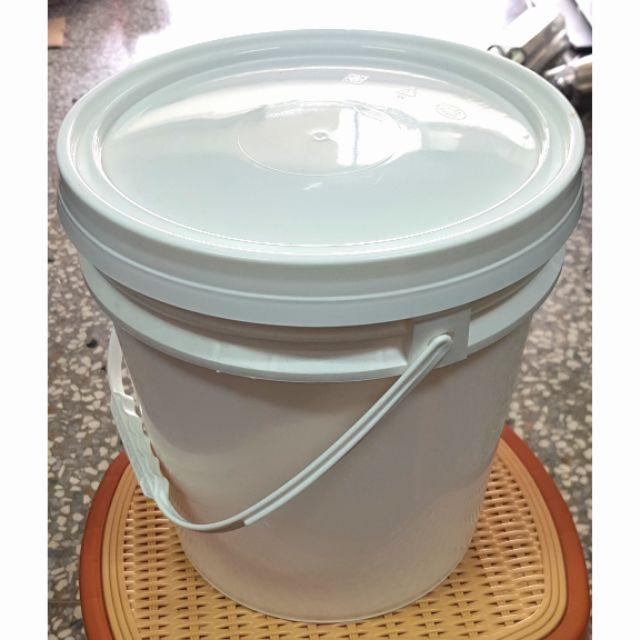plastic: (60, 23, 581, 621)
